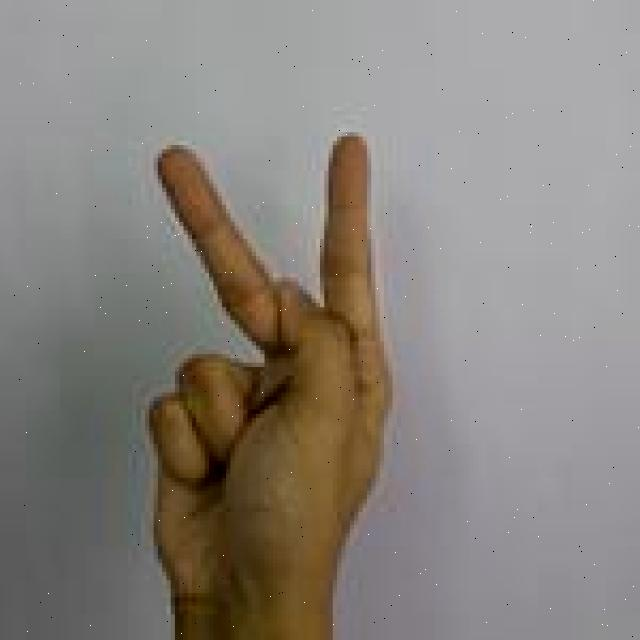K: (142, 125, 403, 640)
